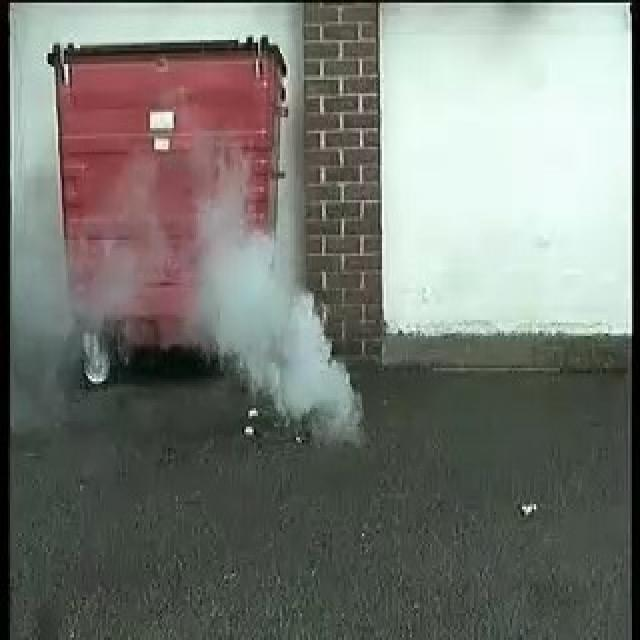smoke: (198, 176, 364, 444)
